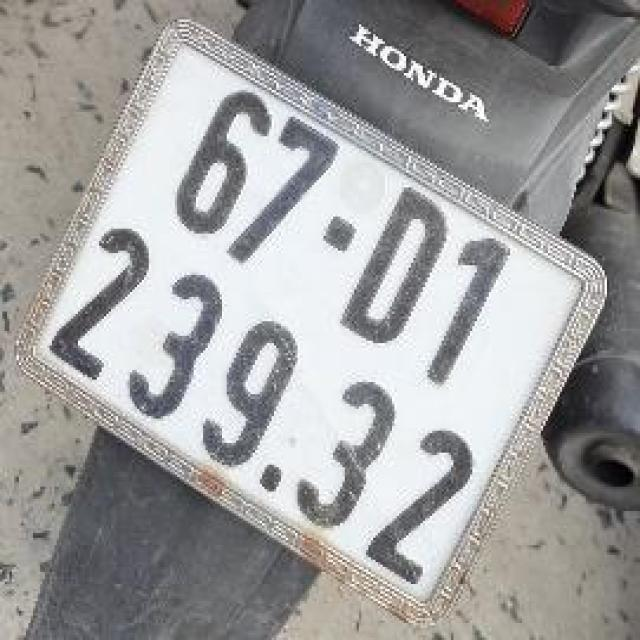1: (401, 218, 519, 399)
2: (355, 413, 490, 596), (40, 213, 168, 387)
3: (282, 362, 412, 541), (113, 256, 236, 436)
6: (159, 80, 285, 254)
7: (218, 109, 346, 286)
9: (185, 306, 313, 477)
D: (329, 176, 462, 362)
